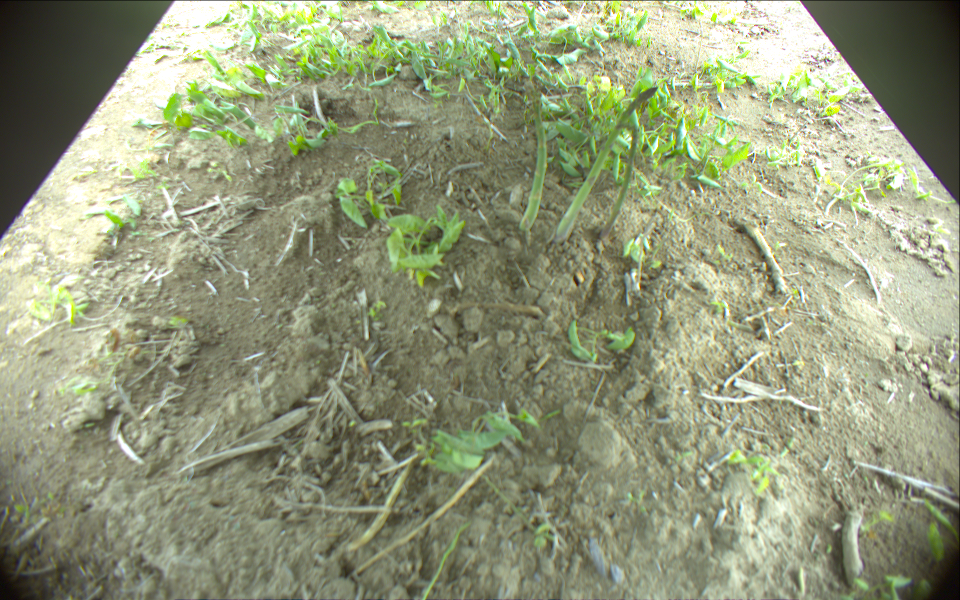aspa: (551, 85, 660, 243), (599, 116, 641, 240), (518, 73, 547, 230)
